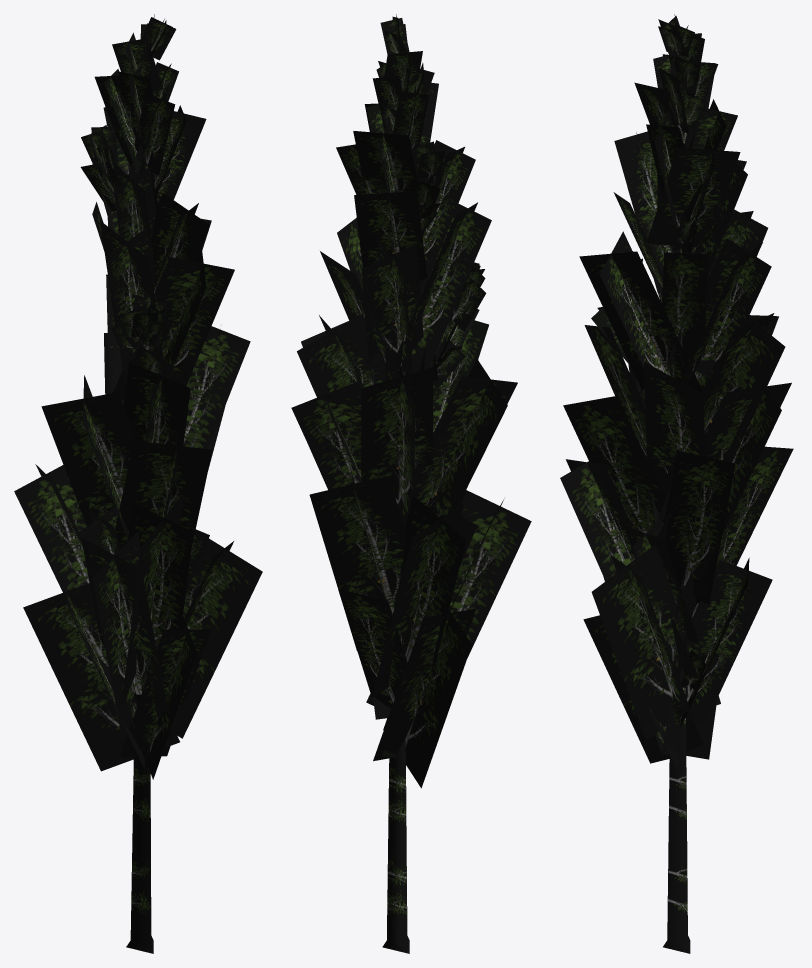
Rendered from poplar.glb.
3 renders of one model, left to right at view 1: azimuth 30°, elevation 25°; view 2: azimuth 150°, elevation 25°; view 3: azimuth 270°, elevation 25°, orthographic.
Visible parts, largest first — view 1: 2_Leaves, 1_Trunk; view 2: 2_Leaves, 1_Trunk; view 3: 2_Leaves, 1_Trunk.
Part boxes in pixels (box(x1,y1,x2,y2)): 2_Leaves: box(14, 17, 262, 779); 1_Trunk: box(109, 14, 154, 953); 2_Leaves: box(291, 16, 531, 788); 1_Trunk: box(382, 14, 452, 953); 2_Leaves: box(560, 16, 793, 768); 1_Trunk: box(663, 14, 690, 953).
Bounding box in the file's own units: 108 × 481 × 111.
Materials: 1 (1 with a texture image).
